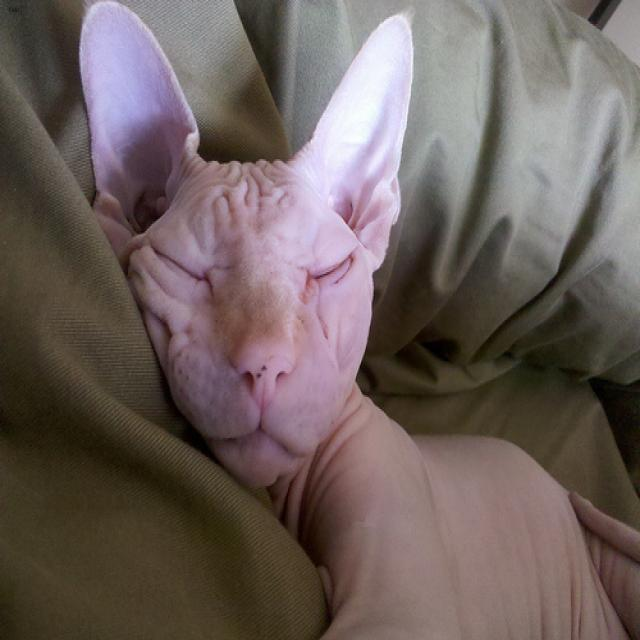Sphynx: (79, 0, 417, 498)
